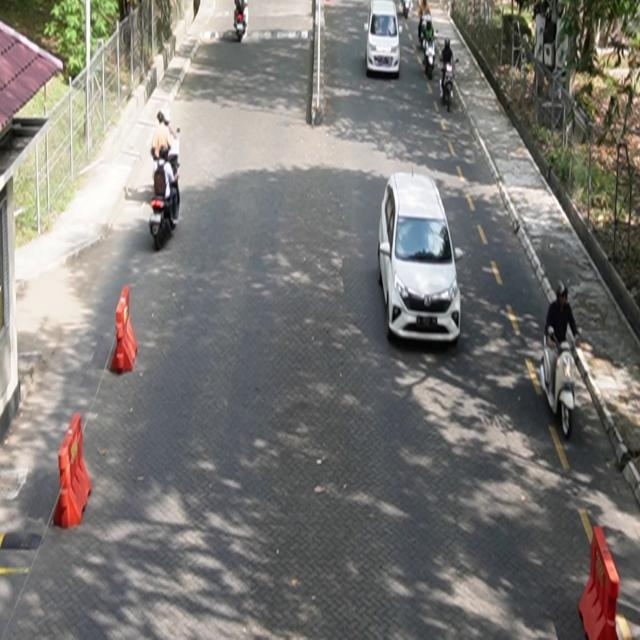car: (379, 170, 462, 345), (365, 1, 402, 79)
